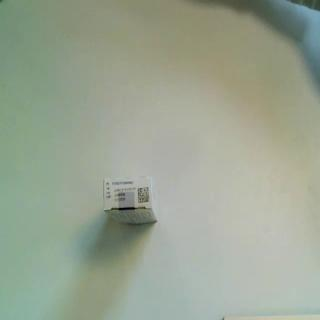imovane7-5mg: (103, 175, 159, 228)
